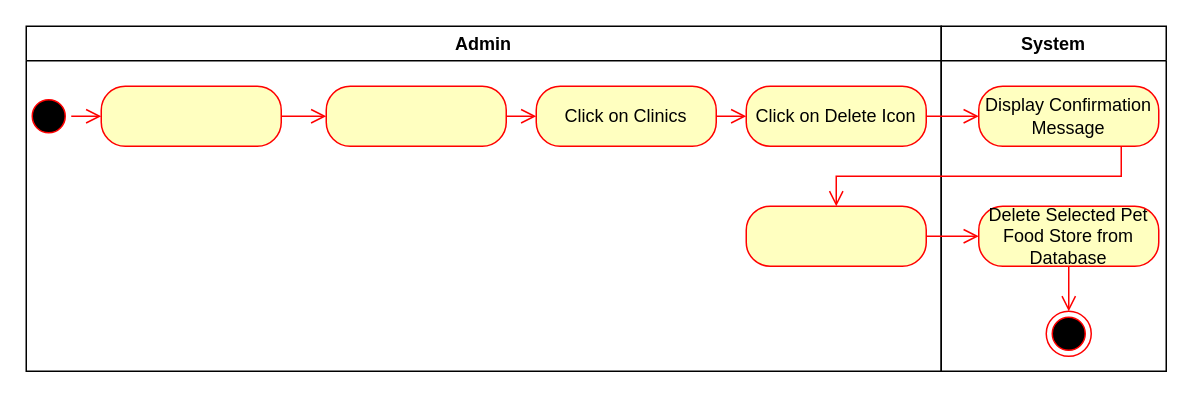
Image size: 1193x398. Some labels were removed from this diagram. Here are the shapes that lost their labels. From the top down, the centre of each, then its label:
At pixel 190 115: "Login".
At pixel 415 115: "View Dashboard".
At pixel 835 235: "Confirm Pop up Message".
